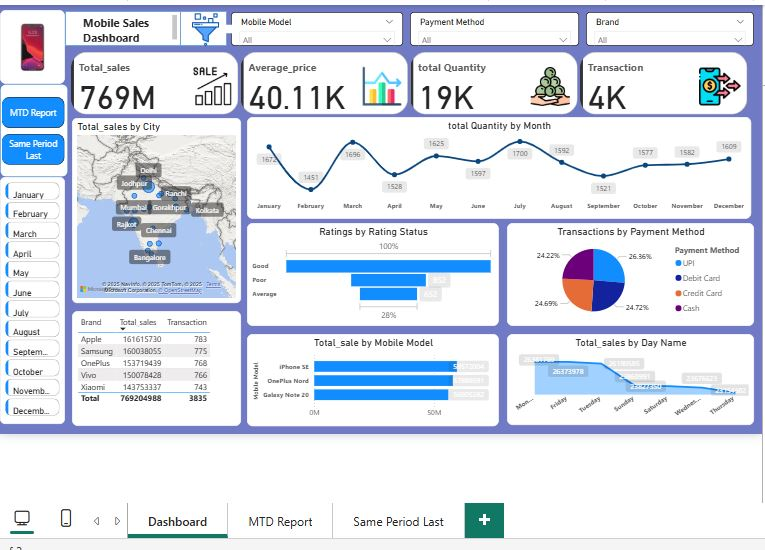

Layout of this report page (visuals, bound fields, positions):
{"tool":"powerbi","page":{"name":"Dashboard","canvas":[1280,720],"ordinal":0},"visuals":[{"type":"image","box":[0,8.4,109.2,124.3],"z":0},{"type":"cardVisual","fields":{"Data":["sales_data.Total_sales","sales_data.Average_price","sales_data.total Quantity","sales_data.Transaction"]},"box":[113.8,74.1,1146.6,115.5],"z":1000},{"type":"slicer","fields":{"Values":["sales_data.Mobile Model"]},"box":[388,11.8,288.9,57.1],"z":2000},{"type":"slicer","fields":{"Values":["sales_data.Payment Method"]},"box":[688.7,11.8,283.9,57.1],"z":3000},{"type":"slicer","fields":{"Values":["sales_data.Brand"]},"box":[984.4,11.8,282.2,57.1],"z":4000},{"type":"shape","box":[302.4,10.1,79,58.8],"z":5000},{"type":"image","box":[302.4,8.4,85.7,65.5],"z":6000},{"type":"shape","box":[367.9,25.2,38.6,30.2],"z":7000},{"type":"shape","box":[109.2,10.1,193.2,58.8],"z":8000},{"type":"textbox","box":[134.4,11.8,168,55.4],"z":9000},{"type":"map","fields":{"Category":["sales_data.City"],"Size":["sales_data.Total_sales"]},"box":[120.9,189.8,283.9,310.8],"z":10000},{"type":"lineChart","fields":{"Category":["custom_calender.date.Variation.Date Hierarchy.Month"],"Y":["sales_data.total Quantity"]},"box":[414.9,188.1,846.6,171.3],"z":11000},{"type":"advancedSlicerVisual","fields":{"Values":["custom_calender.date.Variation.Date Hierarchy.Month"]},"box":[0,288.9,109.2,414.9],"z":12000},{"type":"funnel","title":" Ratings by Rating Status","fields":{"Y":["CountNonNull(sales_data.Customer Ratings)"],"Category":["sales_data.Rating Status"]},"box":[414.9,366.2,423.3,173],"z":13000},{"type":"pieChart","title":"Transactions by Payment Method","fields":{"Category":["sales_data.Payment Method"],"Y":["sales_data.Transaction"]},"box":[851.7,366.2,414.9,173],"z":14000},{"type":"barChart","title":"Total_sale by Mobile Model","fields":{"Category":["sales_data.Mobile Model"],"Y":["sales_data.Total_sales"]},"box":[414.9,552.7,423.3,154.5],"z":15000},{"type":"areaChart","title":"Total_sales by Day Name","fields":{"Category":["custom_calender.Day Name"],"Y":["sales_data.Total_sales"]},"box":[851.7,552.7,414.9,152.9],"z":16000},{"type":"tableEx","title":"Total_sale by Mobile Model","fields":{"Values":["sales_data.Brand","sales_data.Total_sales","sales_data.Transaction"]},"box":[120.9,514,283.9,193.2],"z":17000},{"type":"shape","box":[0,132.7,114.2,156.2],"z":17001},{"type":"pageNavigator","box":[3.4,154.5,105.8,114.2],"z":17002}]}

Visuals, with their boxes in screenshot pixels (x1, y1, x2, y2):
image: bbox=[2, 9, 66, 82]
cardVisual - sales_data.Total_sales x sales_data.Average_price: bbox=[69, 48, 745, 116]
slicer - sales_data.Mobile Model: bbox=[231, 11, 401, 45]
slicer - sales_data.Payment Method: bbox=[408, 11, 575, 45]
slicer - sales_data.Brand: bbox=[582, 11, 749, 45]
shape: bbox=[180, 10, 227, 45]
image: bbox=[180, 9, 231, 48]
shape: bbox=[219, 19, 242, 37]
shape: bbox=[66, 10, 180, 45]
textbox: bbox=[81, 11, 180, 44]
map - sales_data.City x sales_data.Total_sales: bbox=[73, 116, 241, 299]
lineChart - custom_calender.date.Variation.Date Hierarchy.Month x sales_data.total Quantity: bbox=[247, 115, 746, 216]
advancedSlicerVisual - custom_calender.date.Variation.Date Hierarchy.Month: bbox=[2, 174, 66, 419]
" Ratings by Rating Status" funnel: bbox=[247, 220, 496, 322]
"Transactions by Payment Method" pieChart: bbox=[504, 220, 749, 322]
"Total_sale by Mobile Model" barChart: bbox=[247, 330, 496, 421]
"Total_sales by Day Name" areaChart: bbox=[504, 330, 749, 420]
"Total_sale by Mobile Model" tableEx: bbox=[73, 307, 241, 421]
shape: bbox=[2, 82, 69, 174]
pageNavigator: bbox=[4, 95, 66, 162]
